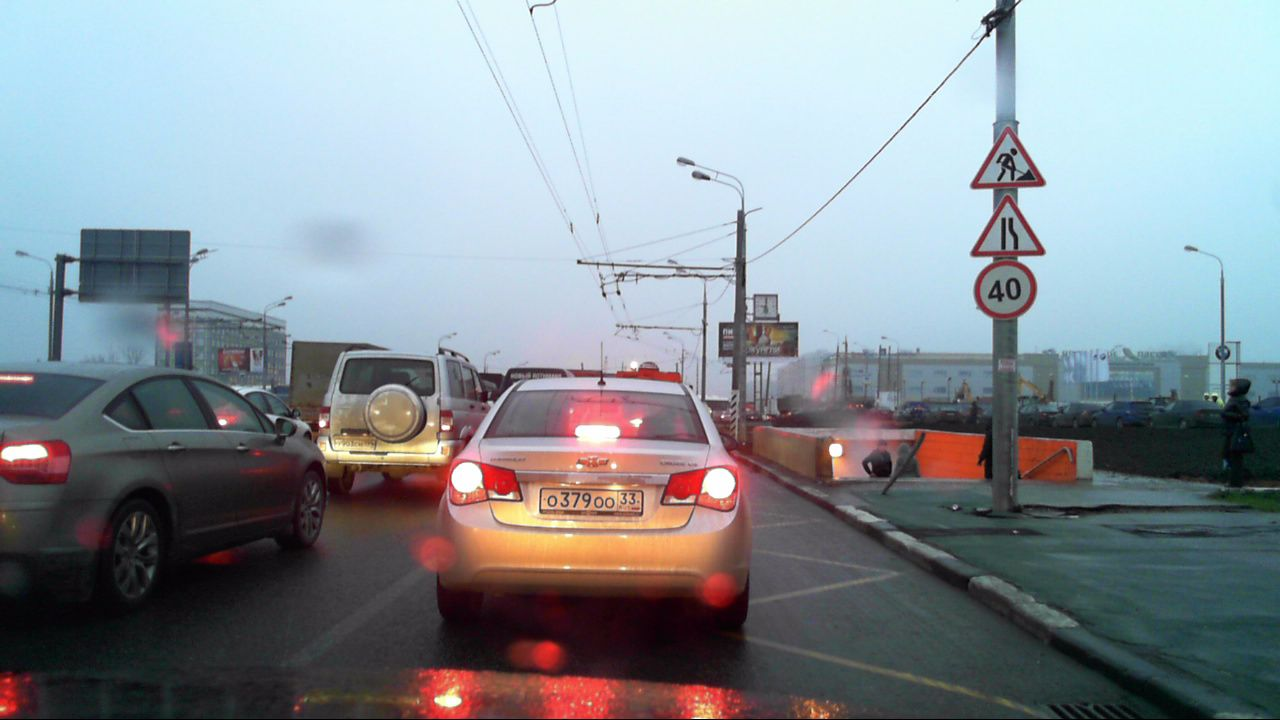speed_warning_40: (972, 260, 1038, 317)
